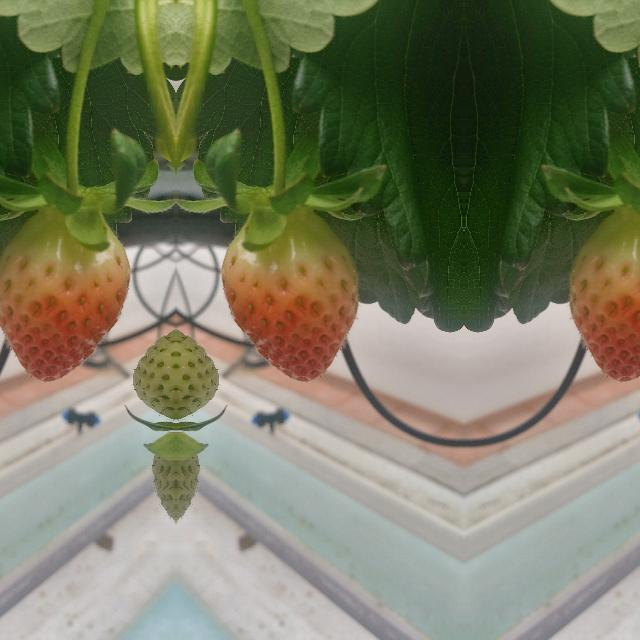Health_75: (220, 210, 358, 380), (0, 209, 129, 380), (568, 209, 640, 380)
